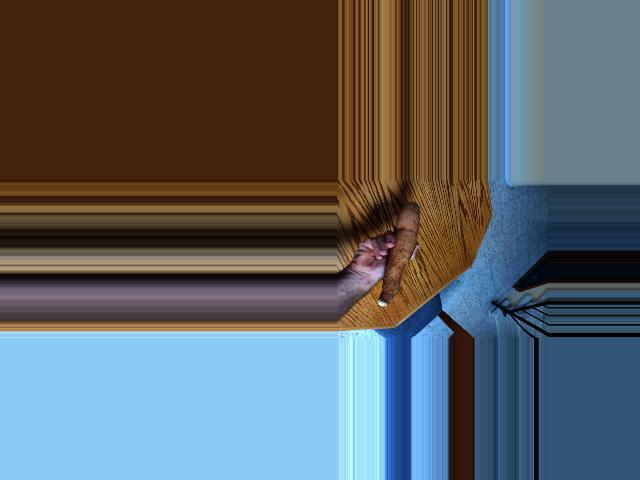sweet_potato: (367, 206, 425, 305)
